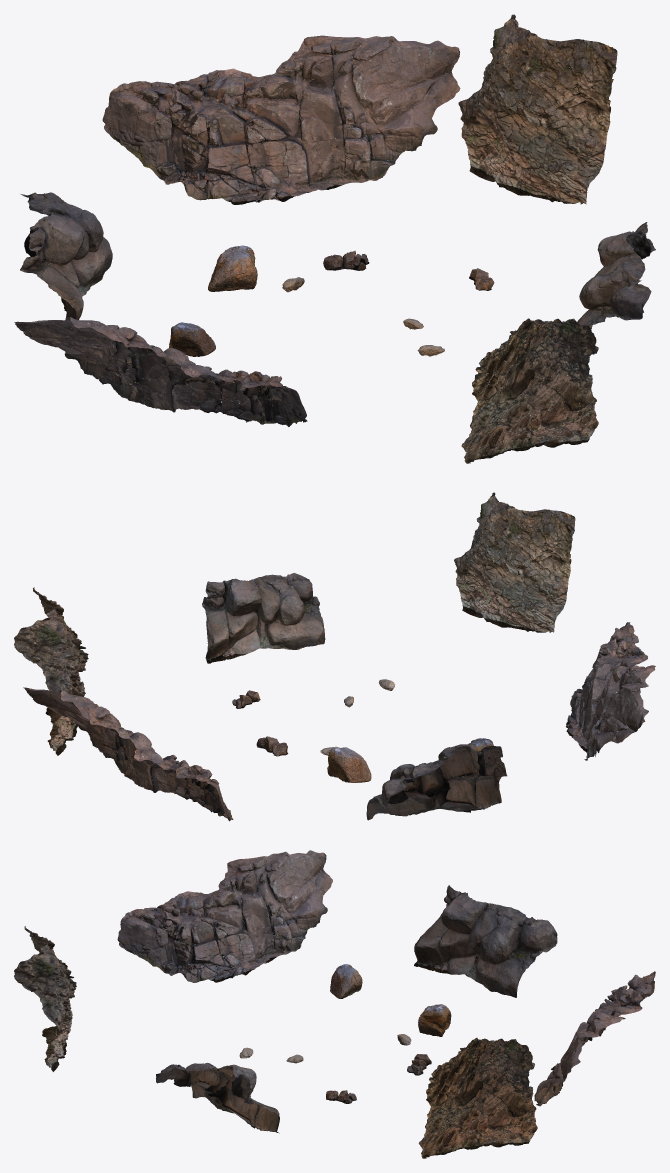
File: crag-ring.glb
3 renders of one model, top to bottom at view 1: azimuth 30°, elevation 25°; view 2: azimuth 150°, elevation 25°; view 3: azimuth 270°, elevation 25°, orthographic. The views are drawn at different scales.
Visible parts, largest first — view 1: wall, massif, massif2, crag_r, crag_l, crag_b, b4_mid, b4_l, b2_mid; view 2: massif2, crag_b, wall, crag_l, crag_r, massif, b4_mid; view 3: crag_r, massif, crag_l, crag_b, massif2, wall, b4_mid, b4_l.
Boxes of the visible parts, x1,y1,x2,y2 form: wall: (102,35,460,204); massif: (458,14,617,204); massif2: (461,318,598,463); crag_r: (14,317,307,426); crag_l: (20,192,112,319); crag_b: (577,222,655,328); b4_mid: (208,245,257,291); b4_l: (169,322,215,356); b2_mid: (323,250,369,270); massif2: (454,492,575,632); crag_b: (202,573,325,663); wall: (23,687,233,821); crag_l: (366,744,507,820); crag_r: (566,622,655,760); massif: (14,587,88,755); b4_mid: (327,747,371,782); crag_r: (117,850,332,982); massif: (418,1037,537,1158); crag_l: (414,885,557,997); crag_b: (156,1062,279,1133); massif2: (14,926,76,1071); wall: (534,971,655,1106); b4_mid: (418,1004,451,1036); b4_l: (330,964,362,998).
Bounding box in the file's own units: 58.41 × 12.64 × 61.99.
Materials: 13 (13 with a texture image).
